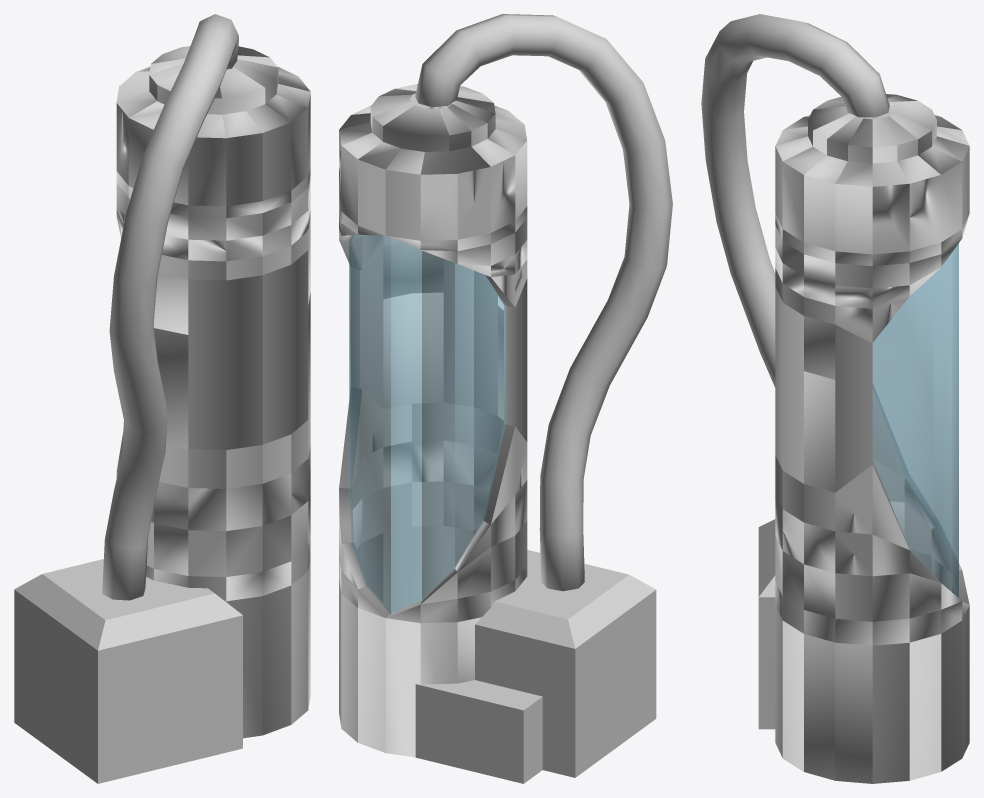
Rendered from cryo_vat.fbx.
3 views of the same model, side by side, from view 1: azimuth 30°, elevation 25°; view 2: azimuth 150°, elevation 25°; view 3: azimuth 270°, elevation 25° (orthographic). The views are drawn at different scales.
Visible parts, largest first — view 1: Cylinder; view 2: Cylinder; view 3: Cylinder.
Boxes of the visible parts, x1,y1,x2,y2 form: Cylinder: (14, 14, 310, 783); Cylinder: (339, 14, 672, 783); Cylinder: (701, 14, 969, 783).
Size of the model in its own units: 137 by 358 by 124.
